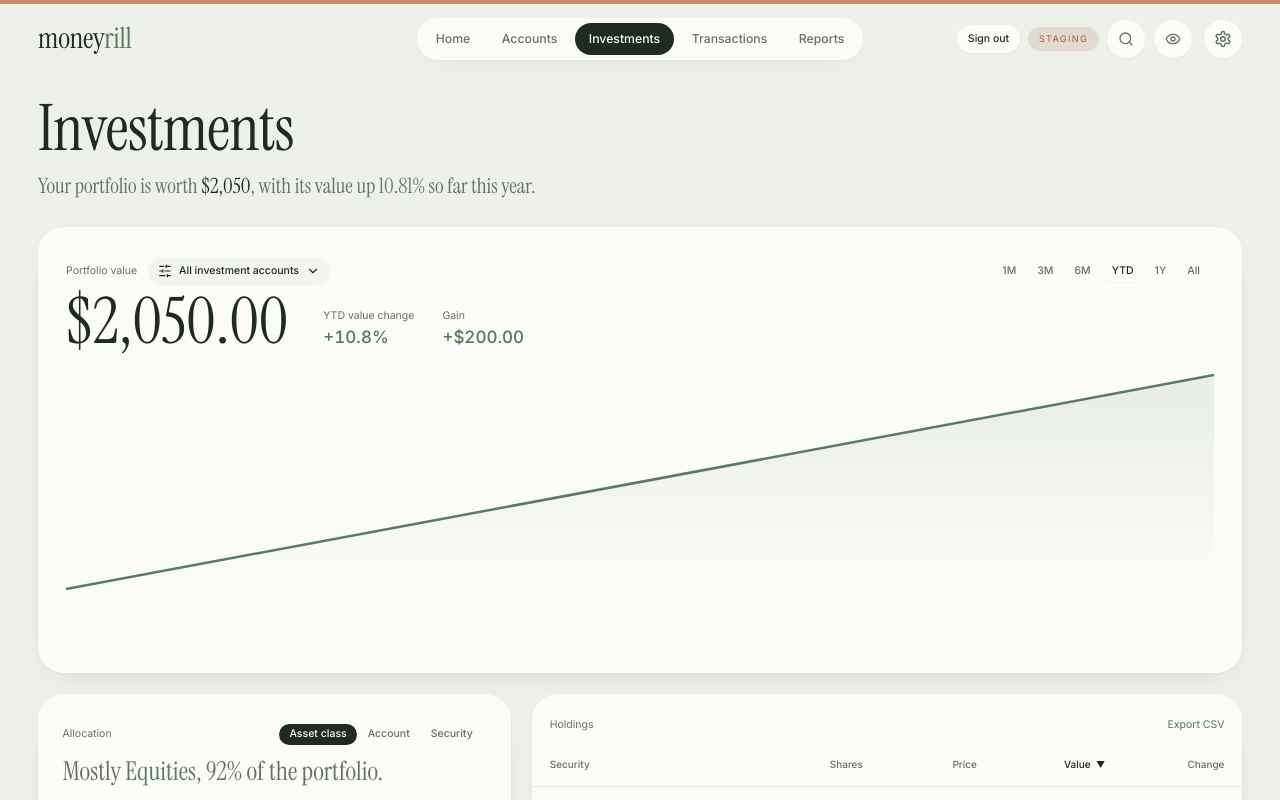
it: Investment account picker › taking the last pick away means every account again, never an empty portfolio
Expected: the text "Portfolio value" is shown, [66,264,137,278]
Click the button "All investment accounts".
click(239, 271)  # box [148,257,331,285]
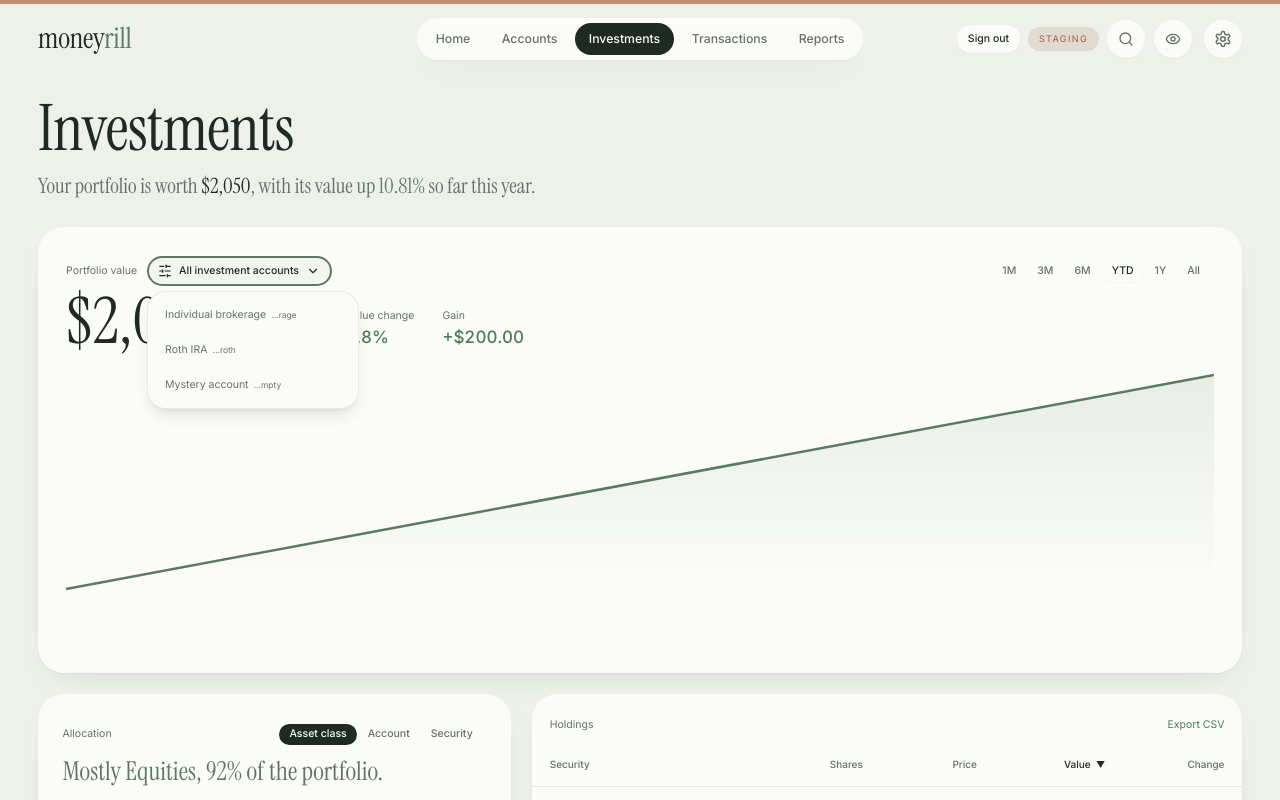
Click the button "Roth IRA…roth".
click(253, 350)  # box [155,334,351,366]
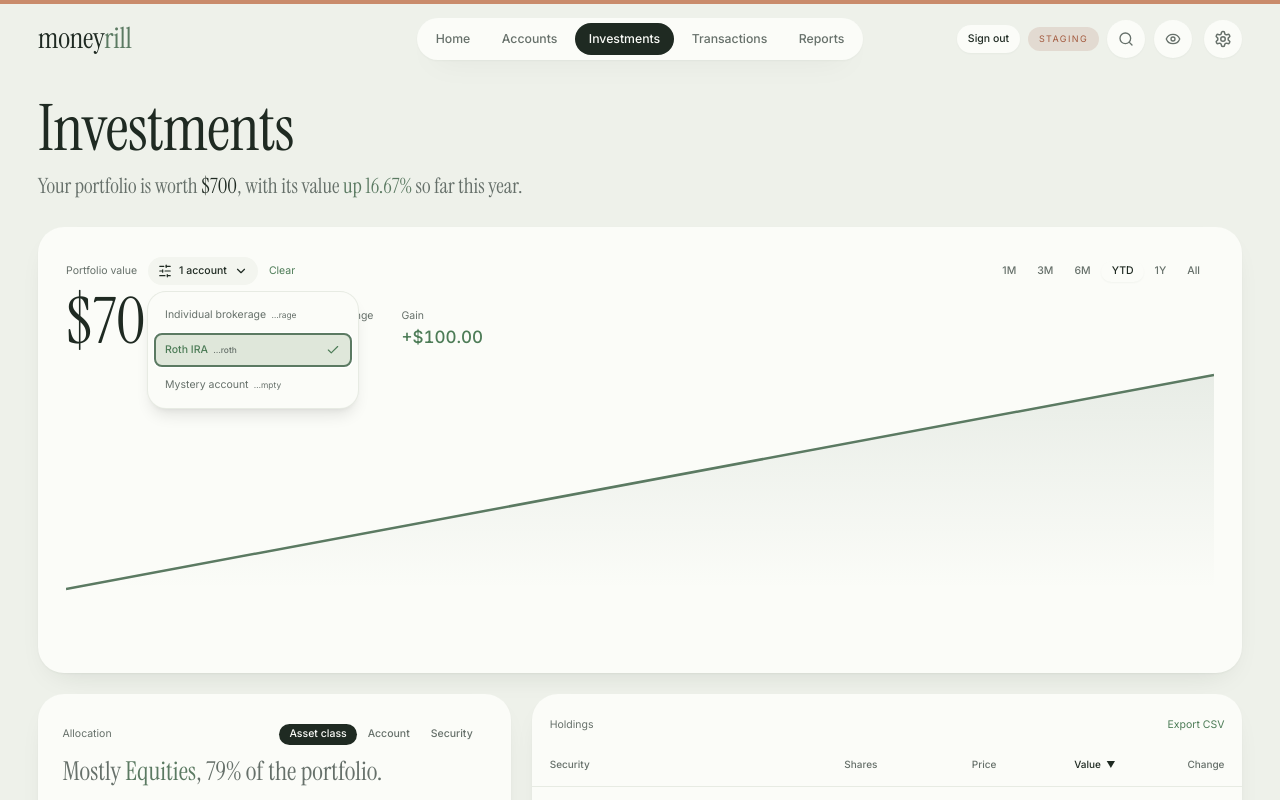
Click the button "Roth IRA…roth".
click(253, 350)  # box [155,334,351,366]
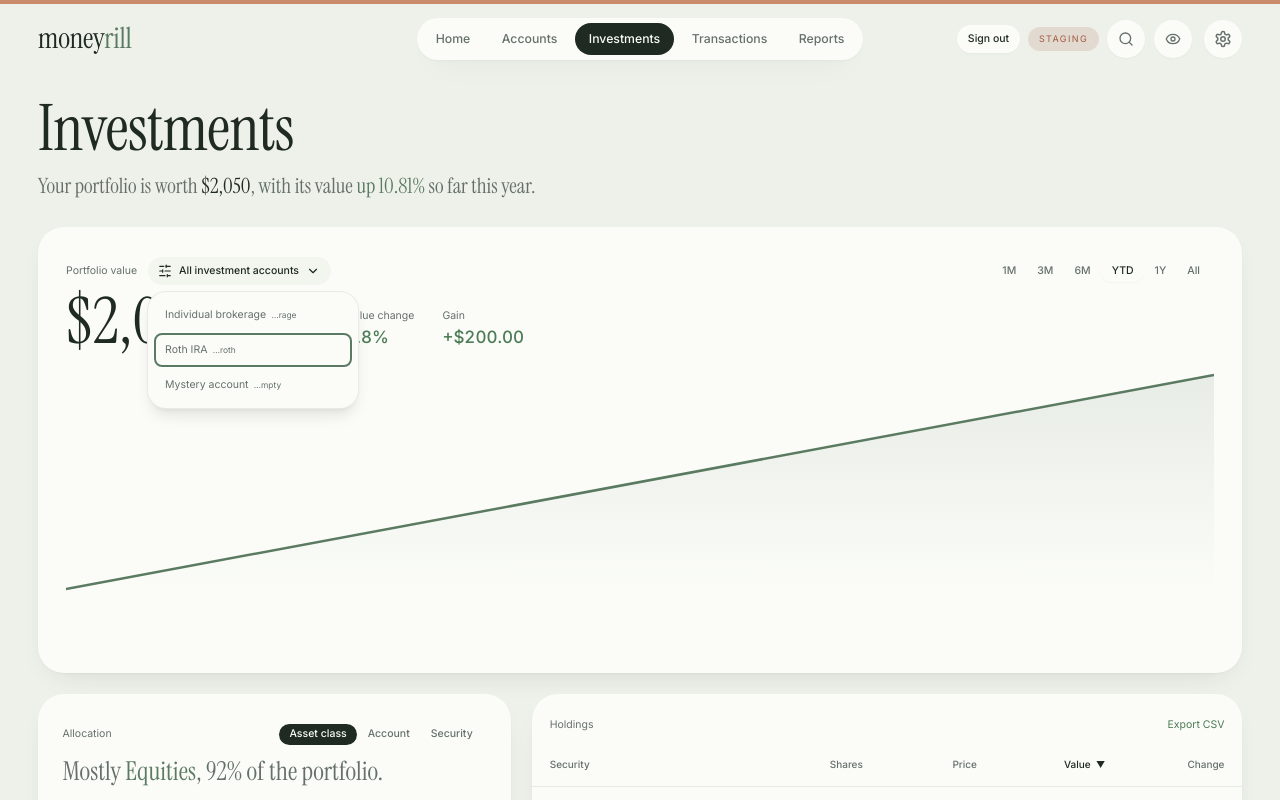
Result: the button "Clear" is gone
